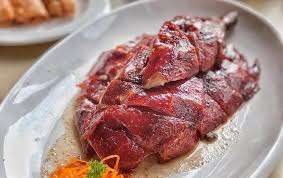peking_duck: (36, 5, 263, 172)
